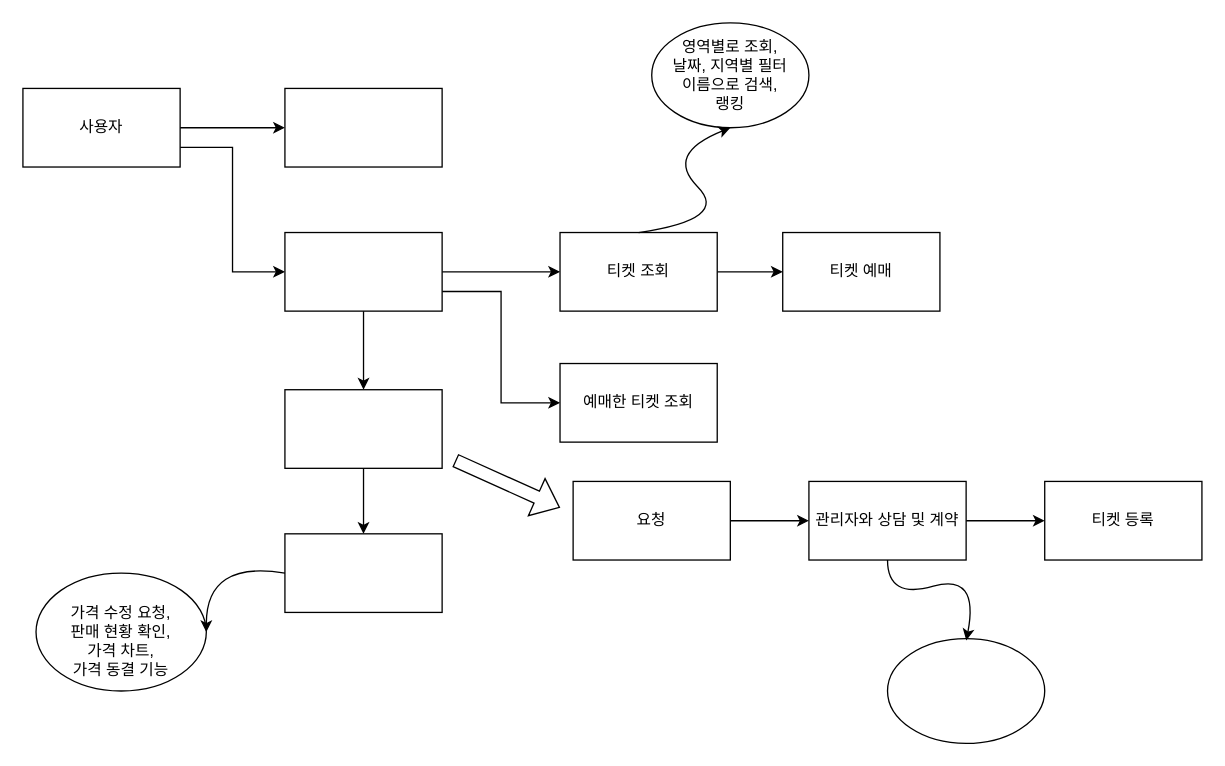
This 1225x766 diagram has some shape labels left out. The centre of each missing label's shape, as x and y in pixels:
"로그인" goes at point 363,271.
"추후 자동화 가능한지 고려" goes at point 965,690.
"티켓 판매" goes at point 363,428.
"판매 티켓 대시보드" goes at point 363,572.
"회원가입" goes at point 363,127.
